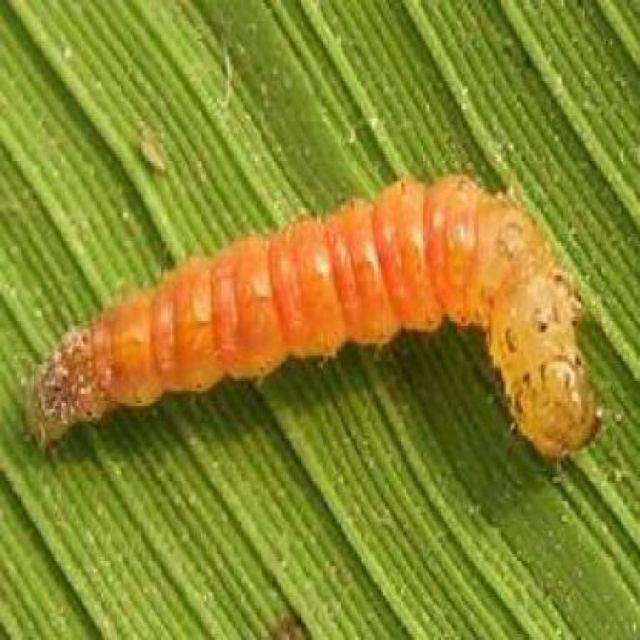leaf-folder: (29, 140, 640, 474)
